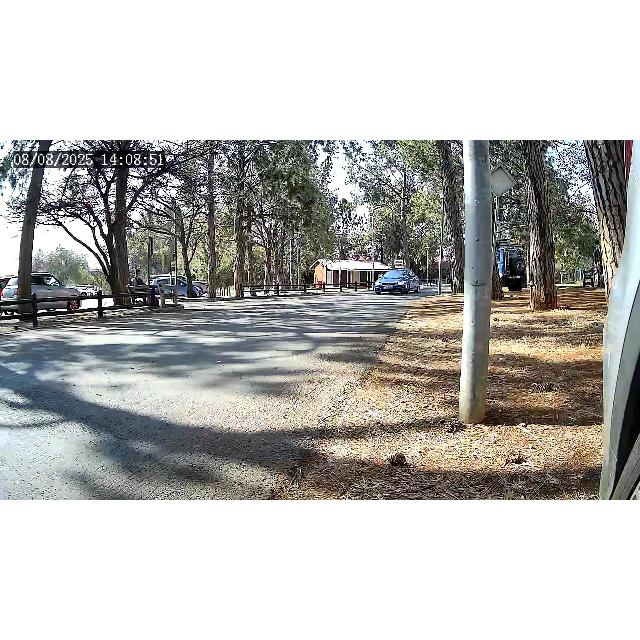car: (0, 272, 82, 316), (372, 269, 421, 295)
